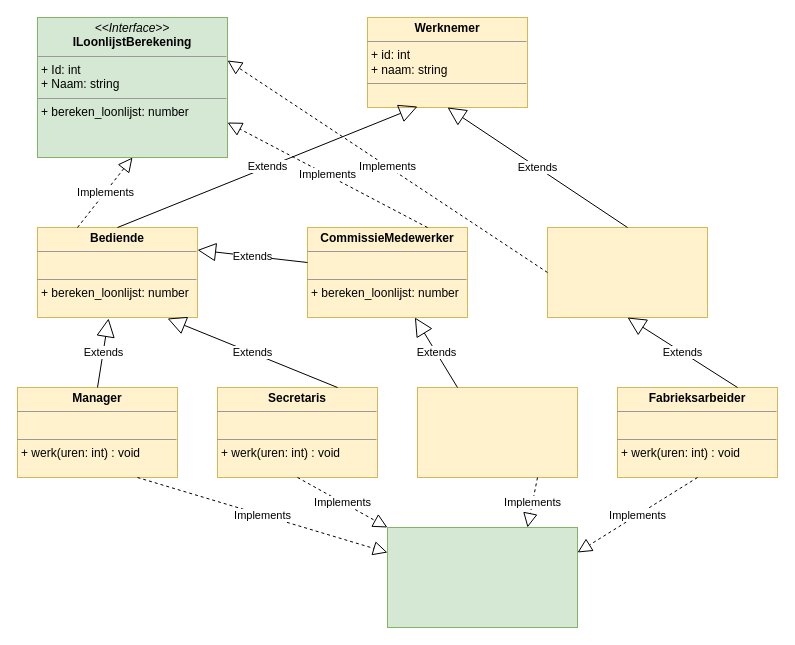
Some shapes in this 795 by 645 pixel diagram are drawn without their labels. Here are the shapes that lost their labels. From the top down, the box of each, then its label:
(546, 226, 708, 318): Arbeider + bereken_loonlijst: number
(416, 386, 578, 478): Verkoper + werk(uren: int) : void
(386, 526, 578, 628): <<Interface>> IWerker + werk(uren:int) : void
